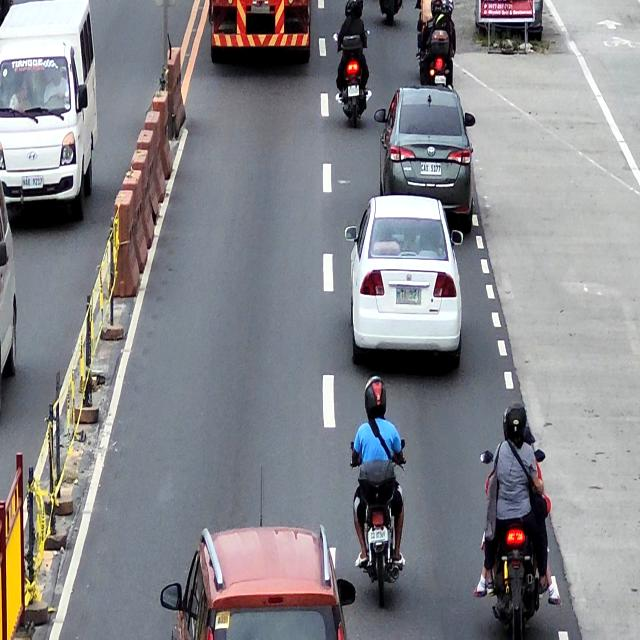Car: (161, 525, 356, 640), (0, 0, 98, 226), (344, 195, 464, 378), (374, 86, 475, 236)
License-Plate: (396, 288, 422, 304), (367, 527, 388, 542), (420, 162, 442, 175), (22, 176, 43, 188), (347, 85, 360, 96), (434, 74, 446, 84)
Motorcycle: (479, 447, 546, 640), (349, 438, 408, 608), (333, 30, 370, 130), (424, 27, 454, 89)
Truck: (209, 0, 312, 71)
